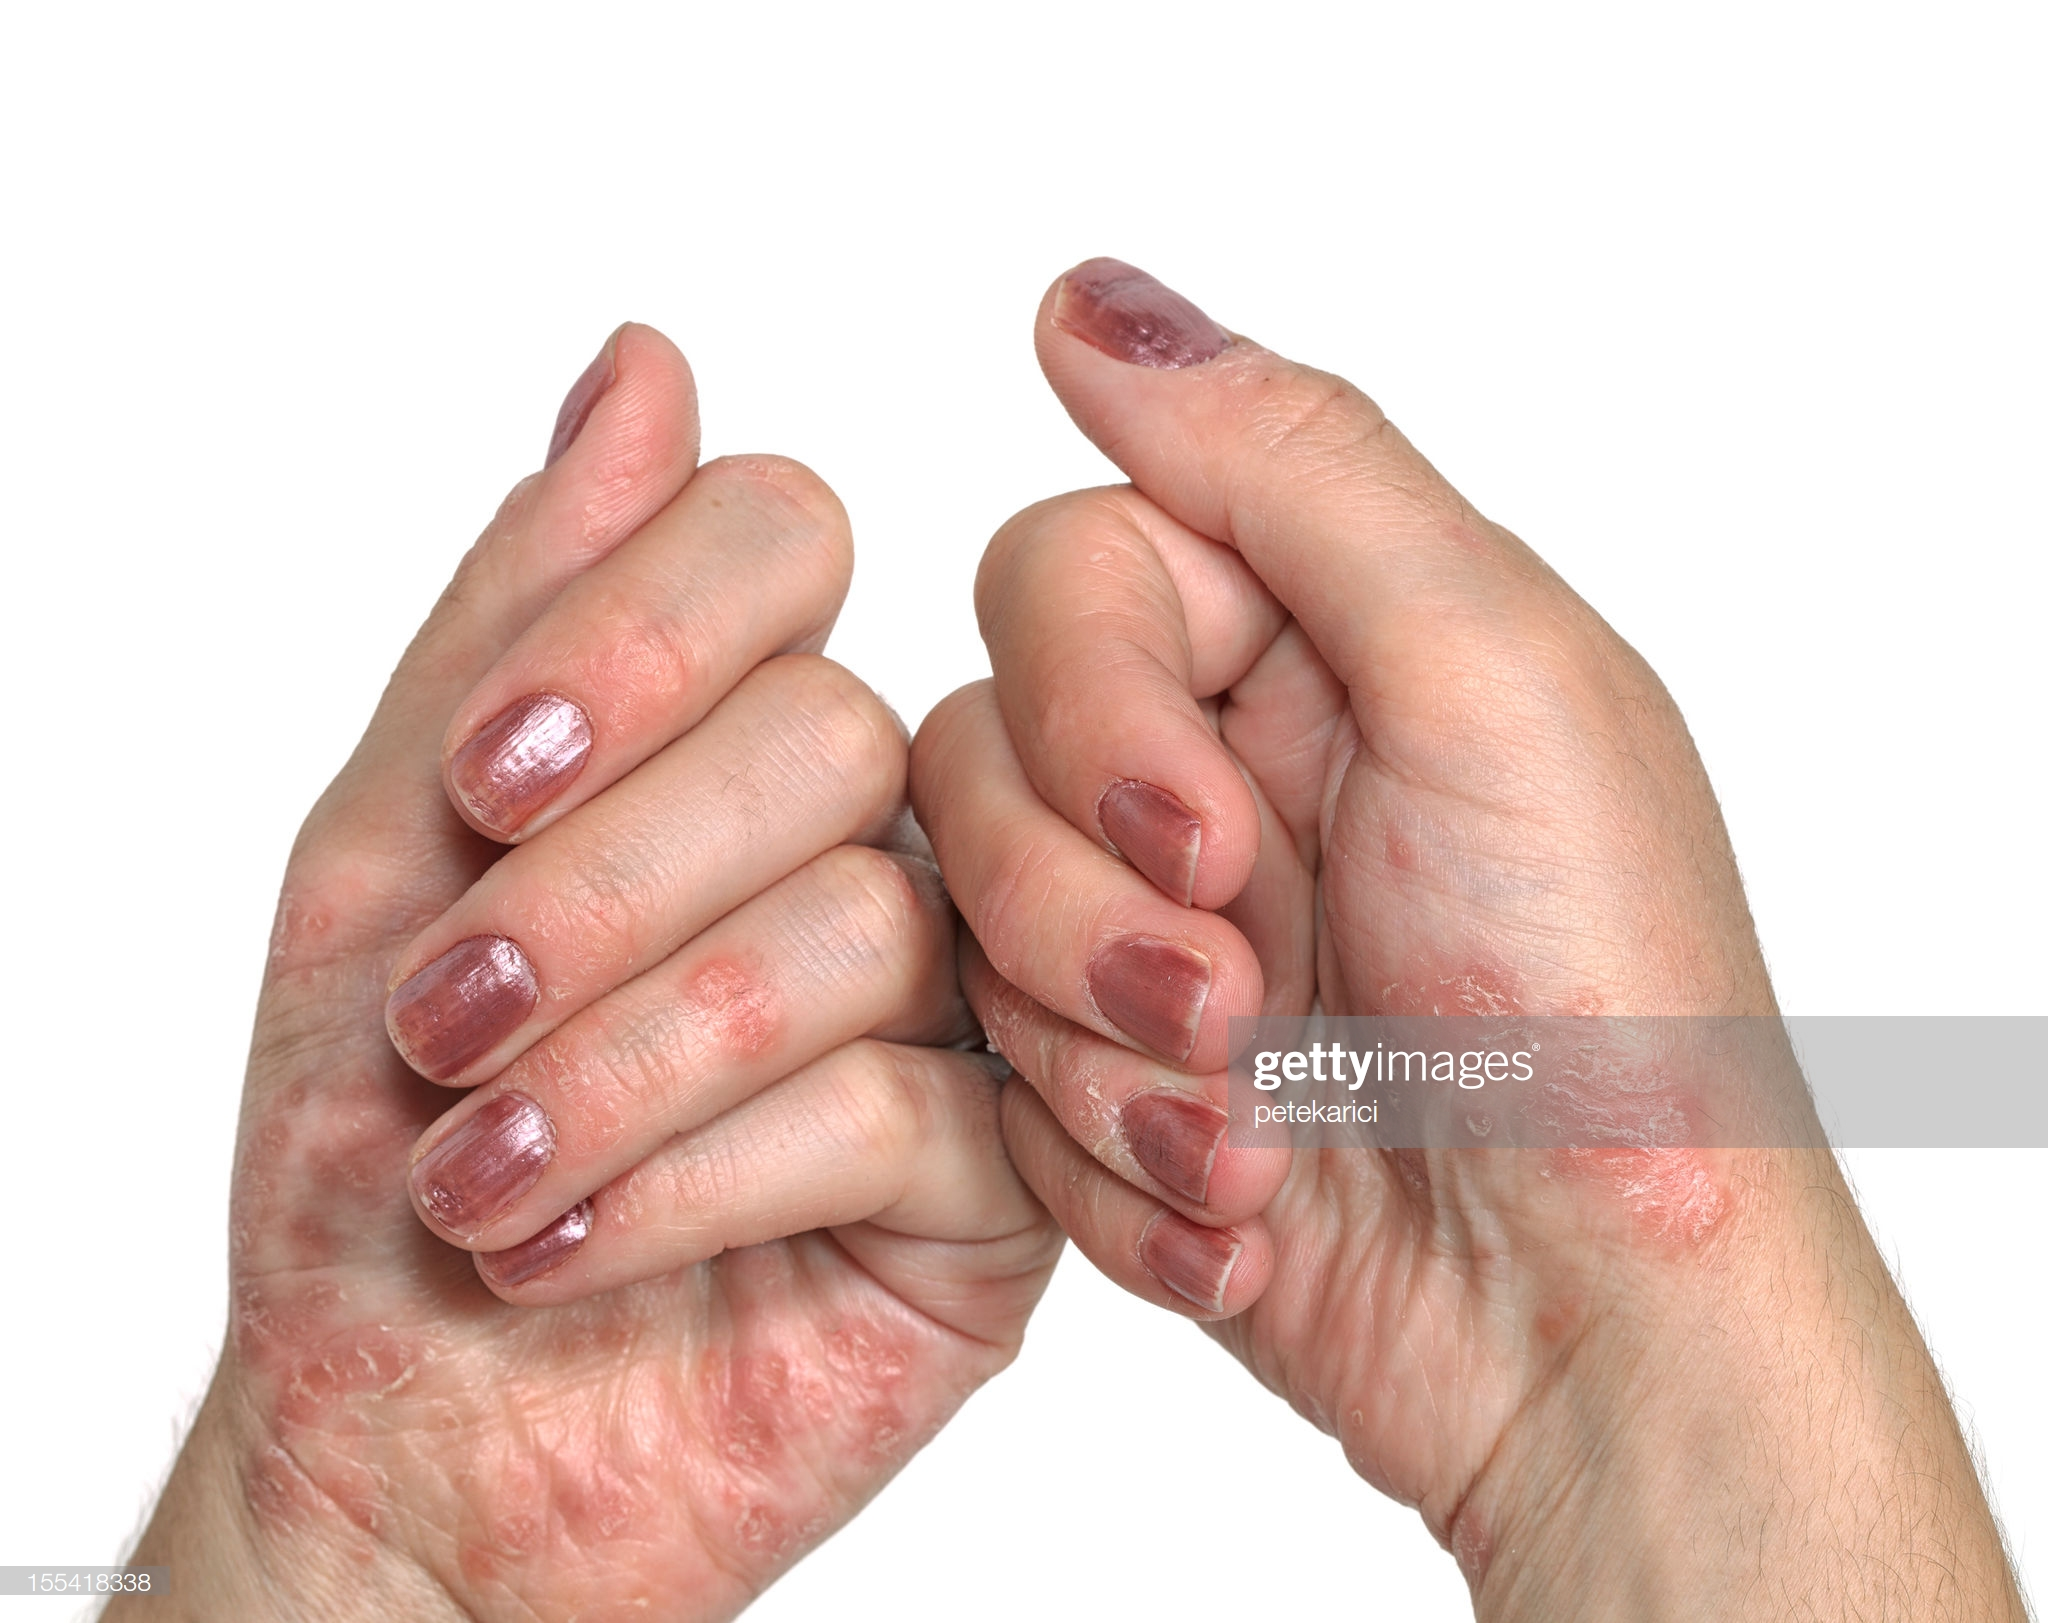Eczema: (239, 908, 858, 1548), (1263, 926, 1724, 1277)
